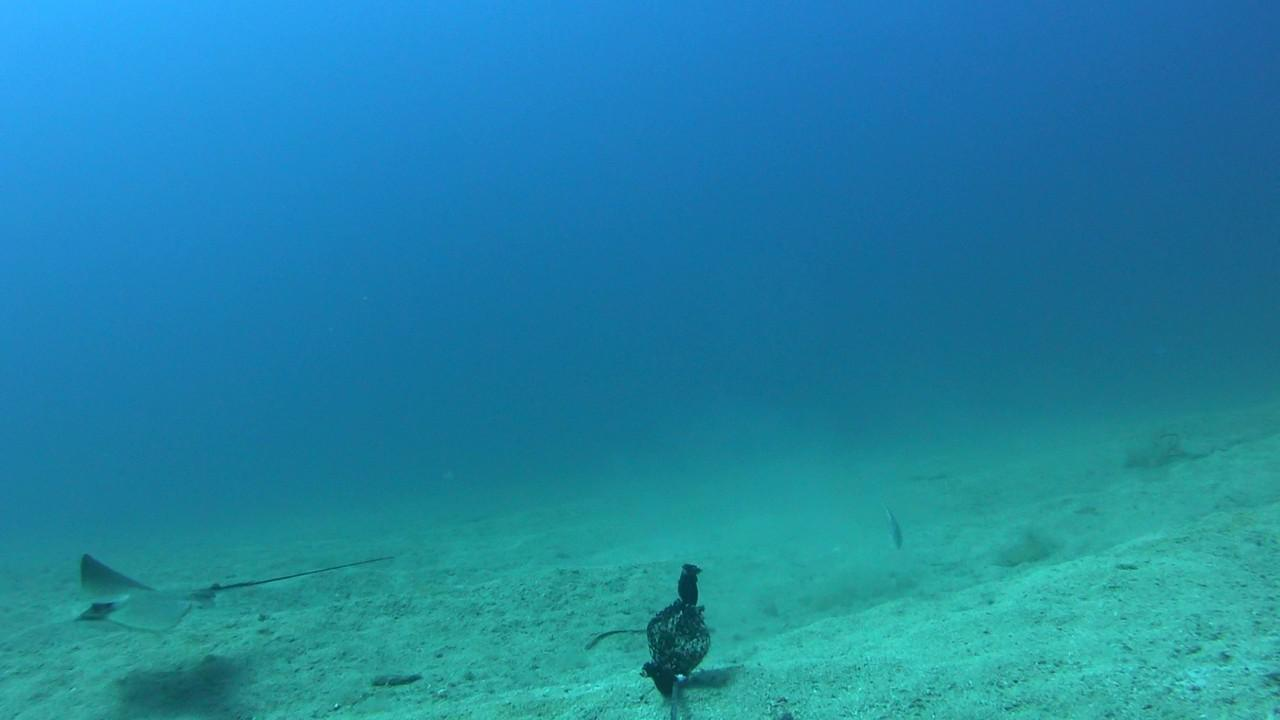myliobatis: (61, 541, 429, 656)
